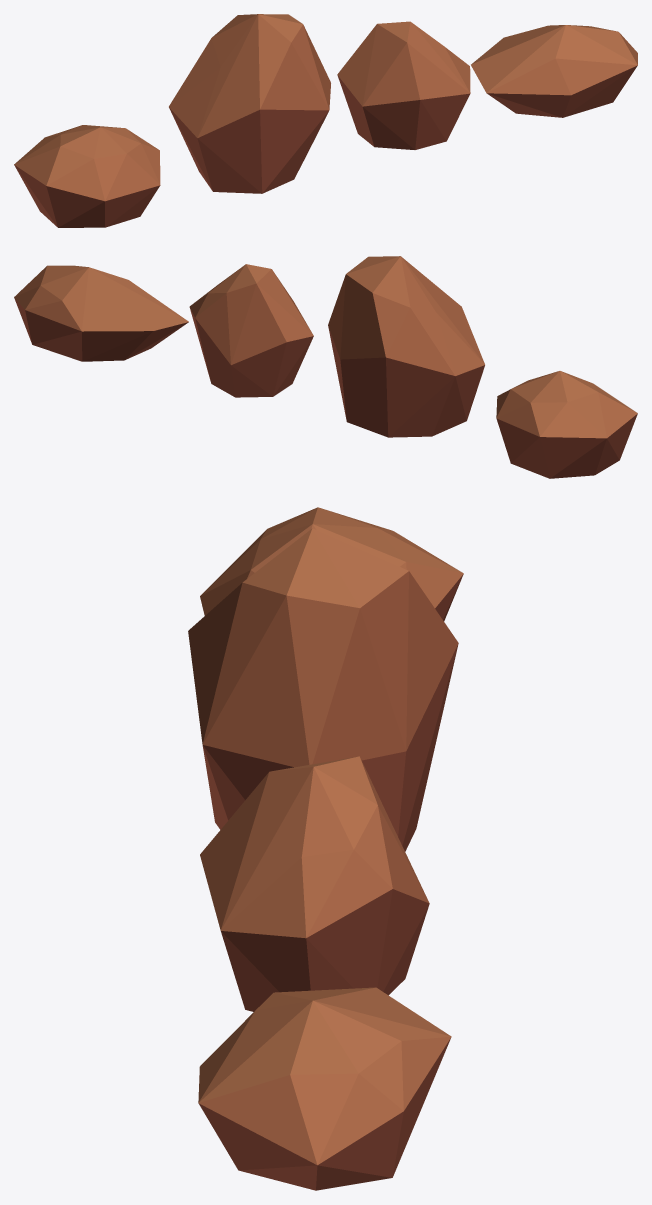
The model's file is asset.glb.
The picture shows the model from 3 angles, top to bottom: view 1: azimuth 30°, elevation 25°; view 2: azimuth 150°, elevation 25°; view 3: azimuth 270°, elevation 25°; orthographic projection. The views are drawn at different scales.
Parts seen in each view (by area): view 1: boulder_variant_2, boulder_variant_3, boulder_variant_4, boulder_variant_1; view 2: boulder_variant_2, boulder_variant_3, boulder_variant_4, boulder_variant_1; view 3: boulder_variant_2, boulder_variant_3, boulder_variant_4, boulder_variant_1.
Part boxes in pixels (x1,y1,x2,y2): boulder_variant_2: (169, 14, 330, 193); boulder_variant_3: (337, 21, 470, 149); boulder_variant_4: (471, 25, 637, 117); boulder_variant_1: (14, 125, 160, 227); boulder_variant_2: (328, 256, 484, 437); boulder_variant_3: (189, 264, 313, 397); boulder_variant_4: (14, 265, 188, 361); boulder_variant_1: (496, 371, 637, 478); boulder_variant_2: (188, 528, 458, 851); boulder_variant_3: (200, 756, 429, 1011); boulder_variant_4: (198, 987, 451, 1190); boulder_variant_1: (200, 507, 463, 621).
Bounding box in the file's own units: 8.47 × 2.1 × 1.67.
